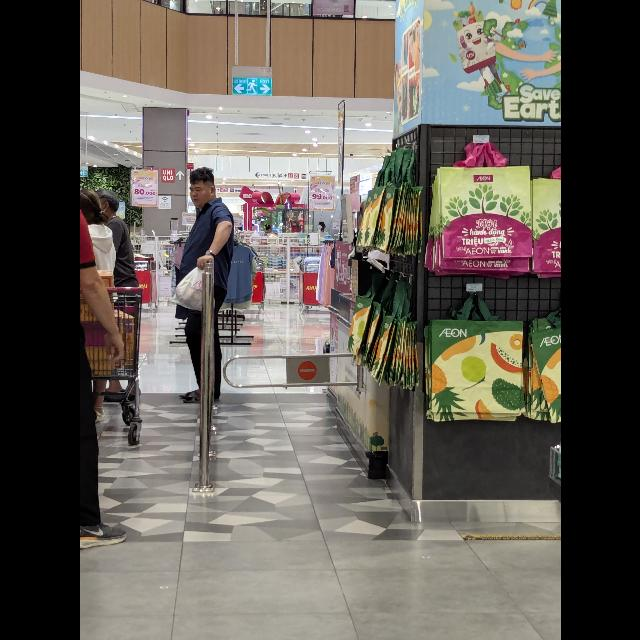exit: (231, 77, 271, 95)
